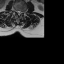CCS_normal: (18, 9, 19, 17)
LFS_stenosis: (21, 10, 23, 14)
LLS_normal: (20, 10, 21, 15)
RFS_stenosis: (15, 9, 17, 13)
RLS_normal: (17, 9, 18, 14)
